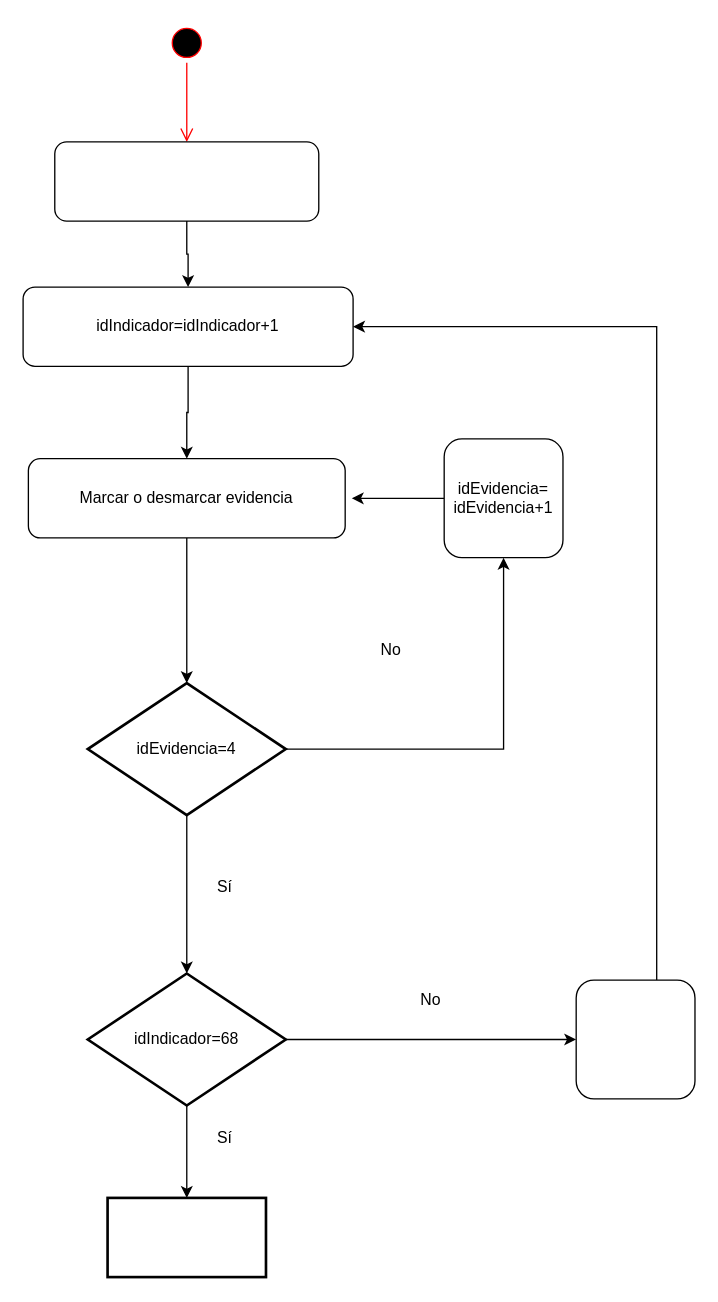
Some shapes in this 718 by 1302 pixel diagram are drawn without their labels. The box of each missing label's shape, as (x1, y1, x2, y2) in pixels:
Cálculo de resultados: (106, 1196, 267, 1278)
idEvidencia=1: (575, 979, 695, 1099)
Obtener indicadores y evidencias idIndicador=0, idEvidencia=1: (53, 141, 319, 221)
